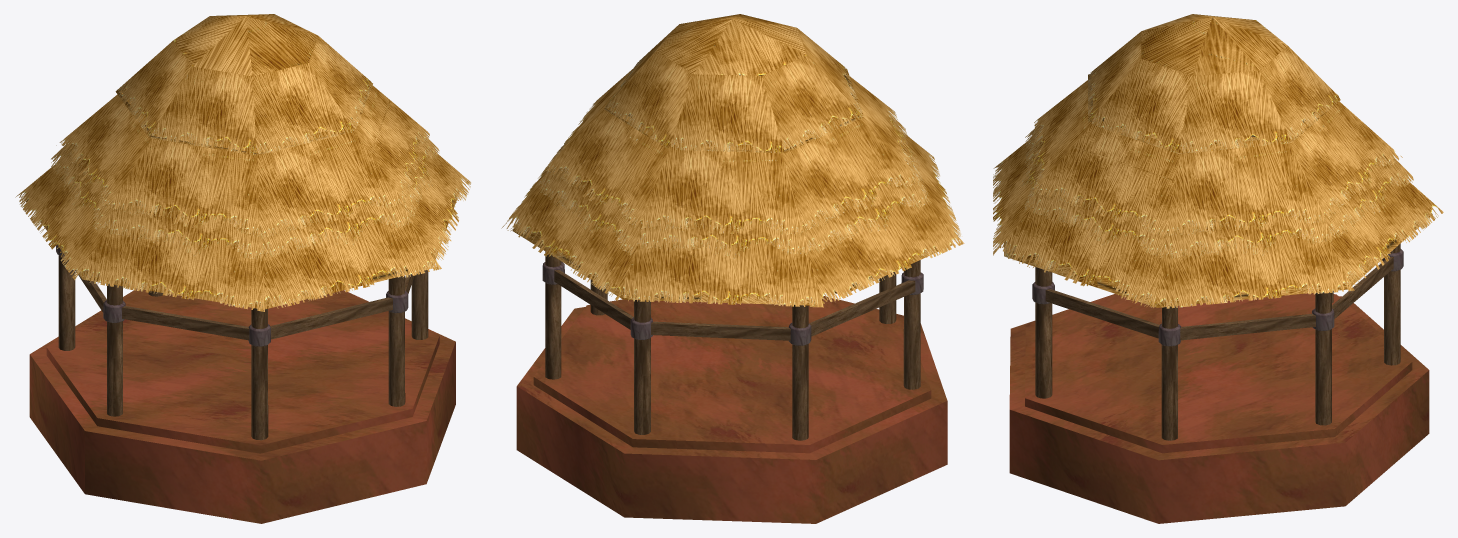
File: information-stand01.glb
3 views of the same model, side by side, from view 1: azimuth 30°, elevation 25°; view 2: azimuth 150°, elevation 25°; view 3: azimuth 270°, elevation 25° (orthographic).
Parts seen in each view (by area): view 1: InformationStand01; view 2: InformationStand01; view 3: InformationStand01.
Part boxes in pixels (bbox=[...]): InformationStand01: bbox=[15, 14, 470, 523]; InformationStand01: bbox=[501, 14, 964, 523]; InformationStand01: bbox=[993, 14, 1443, 523].
Bounding box in the file's own units: 16.3 × 16.2 × 15.89.
4 materials, 4 textured.
